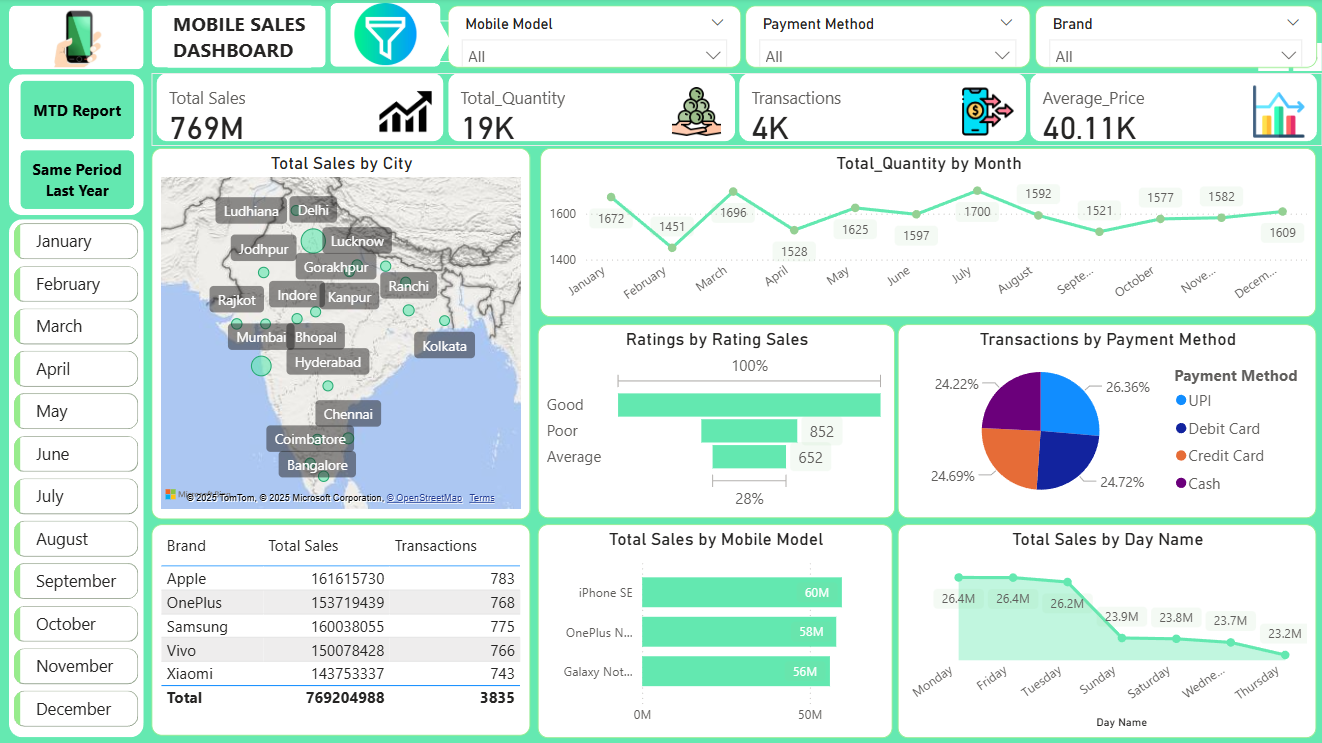

Layout of this report page (visuals, bound fields, positions):
{"tool":"powerbi","page":{"name":"Dashboard","canvas":[1280,720],"ordinal":0},"visuals":[{"type":"shape","box":[10,6.7,130,61.7],"z":0},{"type":"image","box":[32,6,88,66],"z":1000},{"type":"shape","box":[10,74,130,136],"z":2000},{"type":"shape","box":[10,213.3,130,500],"z":3000},{"type":"advancedSlicerVisual","fields":{"Values":["Custom_Calender.Date.Variation.Date Hierarchy.Month"]},"box":[10,212.5,130,500],"z":4000},{"type":"cardVisual","fields":{"Data":["Sales-Data.Total Sales","Sales-Data.Total_Quantity","Sales-Data.Transactions","Sales-Data.Average_Price"]},"box":[147.2,72.4,1131.6,70],"z":5000},{"type":"slicer","fields":{"Values":["Sales-Data.Mobile Model"]},"box":[433.3,6.7,283.3,60],"z":6000},{"type":"slicer","fields":{"Values":["Sales-Data.Payment Method"]},"box":[720,6.7,275,60],"z":7000},{"type":"slicer","fields":{"Values":["Sales-Data.Brand"]},"box":[1000,6.7,271.7,60],"z":8000},{"type":"shape","box":[320,5,106.7,61.7],"z":9000},{"type":"image","box":[331.7,0,81.7,70],"z":10000},{"type":"shape","box":[413.3,21.7,23.3,40],"z":11000},{"type":"shape","box":[146.7,6.7,168.3,60],"z":12000},{"type":"textbox","box":[163.3,6.7,138.3,60],"z":13000},{"type":"map","fields":{"Category":["Sales-Data.City"],"Size":["Sales-Data.Total Sales"]},"box":[147.2,144.8,365.6,358.3],"z":14000},{"type":"lineChart","fields":{"Y":["Sales-Data.Total_Quantity"],"Category":["Custom_Calender.Date.Variation.Date Hierarchy.Month"]},"box":[522.4,144.8,749.2,162.9],"z":15000},{"type":"pieChart","fields":{"Category":["Sales-Data.Payment Method"],"Y":["Sales-Data.Transactions"]},"box":[867.4,314.9,404.2,187],"z":16000},{"type":"funnel","title":" Ratings by Rating Sales","fields":{"Y":["CountNonNull(Sales-Data.Customer Ratings)"],"Category":["Sales-Data.Rating Sales"]},"box":[520,314.9,345,187],"z":17000},{"type":"clusteredBarChart","fields":{"Y":["Sales-Data.Total Sales"],"Category":["Sales-Data.Mobile Model"]},"box":[520,507.9,342.6,206.3],"z":18000},{"type":"areaChart","fields":{"Category":["Sales-Data.Day Name"],"Y":["Sales-Data.Total Sales"]},"box":[867.4,507.9,404.2,206.3],"z":19000},{"type":"tableEx","fields":{"Values":["Sales-Data.Brand","Sales-Data.Total Sales","Sales-Data.Transactions"]},"box":[147.2,507.9,365.6,203.9],"z":20000},{"type":"pageNavigator","box":[20,80,110,124],"z":21000}]}

Visuals, with their boxes in screenshot pixels (x1, y1, x2, y2), scaled from the page's 1280x720 canvas onto the 1322x743 screenshot:
shape: [left=10, top=7, right=145, bottom=71]
image: [left=33, top=6, right=124, bottom=74]
shape: [left=10, top=76, right=145, bottom=217]
shape: [left=10, top=220, right=145, bottom=736]
advancedSlicerVisual - Custom_Calender.Date.Variation.Date Hierarchy.Month: [left=10, top=219, right=145, bottom=735]
cardVisual - Sales-Data.Total Sales x Sales-Data.Total_Quantity: [left=152, top=75, right=1321, bottom=147]
slicer - Sales-Data.Mobile Model: [left=448, top=7, right=740, bottom=69]
slicer - Sales-Data.Payment Method: [left=744, top=7, right=1028, bottom=69]
slicer - Sales-Data.Brand: [left=1033, top=7, right=1313, bottom=69]
shape: [left=330, top=5, right=441, bottom=69]
image: [left=343, top=0, right=427, bottom=72]
shape: [left=427, top=22, right=451, bottom=64]
shape: [left=152, top=7, right=325, bottom=69]
textbox: [left=169, top=7, right=311, bottom=69]
map - Sales-Data.City x Sales-Data.Total Sales: [left=152, top=149, right=530, bottom=519]
lineChart - Sales-Data.Total_Quantity x Custom_Calender.Date.Variation.Date Hierarchy.Month: [left=540, top=149, right=1313, bottom=318]
pieChart - Sales-Data.Payment Method x Sales-Data.Transactions: [left=896, top=325, right=1313, bottom=518]
" Ratings by Rating Sales" funnel: [left=537, top=325, right=893, bottom=518]
clusteredBarChart - Sales-Data.Total Sales x Sales-Data.Mobile Model: [left=537, top=524, right=891, bottom=737]
areaChart - Sales-Data.Day Name x Sales-Data.Total Sales: [left=896, top=524, right=1313, bottom=737]
tableEx - Sales-Data.Brand x Sales-Data.Total Sales: [left=152, top=524, right=530, bottom=735]
pageNavigator: [left=21, top=83, right=134, bottom=211]
